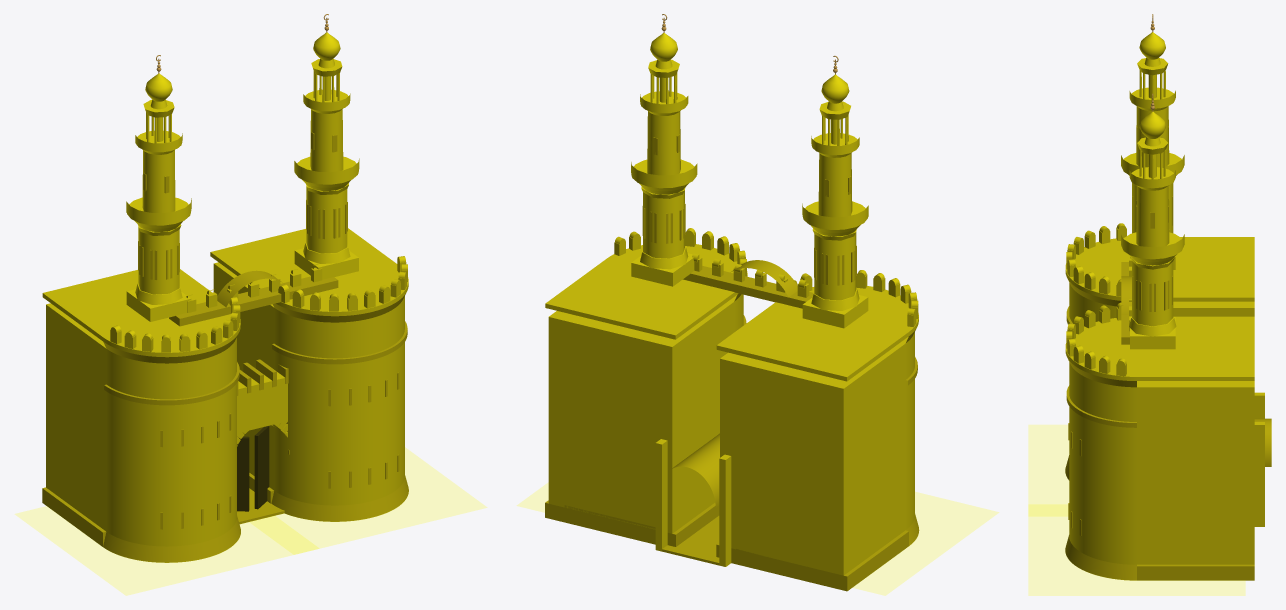
Rendered from RUWAQ_BAB_ZUWAYLA_MASTER.glb.
3 views of the same model, side by side, from view 1: azimuth 30°, elevation 25°; view 2: azimuth 150°, elevation 25°; view 3: azimuth 270°, elevation 25° (orthographic). The views are drawn at different scales.
Parts seen in each view (by area): view 1: left_tower_curved_wall_upper, right_tower_curved_wall_upper, left_tower_upper_structure, left_tower_contact_shadow, right_tower_upper_structure, right_tower_contact_shadow, left_tower_curved_wall_lower, right_tower_curved_wall_lower, left_minaret_tier1_octagonal_shaft, right_minaret_tier1_octagonal_shaft, left_tower_outer_flank_lower, right_tower_terrace (+23 smaller); view 2: left_tower_upper_structure, right_tower_upper_structure, left_tower_rear_wall_lower, right_tower_rear_wall_lower, left_tower_contact_shadow, left_minaret_tier1_octagonal_shaft, right_minaret_tier1_octagonal_shaft, left_tower_outer_flank_lower, left_tower_lower_structure, right_tower_lower_structure, gate_passage_vault, right_minaret_tier3_chevron_shaft (+17 smaller); view 3: right_tower_upper_structure, right_tower_curved_wall_upper, right_tower_contact_shadow, left_tower_upper_structure, right_tower_outer_flank_lower, right_minaret_tier1_octagonal_shaft, left_tower_contact_shadow, right_tower_curved_wall_lower, right_tower_terrace, left_tower_terrace, right_tower_lower_structure, right_minaret_tier3_chevron_shaft (+18 smaller).
Boxes of the visible parts, box(x1,y1,x2,y2) form: left_tower_curved_wall_upper: box(106, 337, 236, 499); right_tower_curved_wall_upper: box(274, 296, 404, 459); left_tower_upper_structure: box(42, 269, 211, 484); left_tower_contact_shadow: box(15, 506, 318, 595); right_tower_upper_structure: box(210, 228, 397, 443); right_tower_contact_shadow: box(250, 448, 486, 554); left_tower_curved_wall_lower: box(106, 473, 236, 546); right_tower_curved_wall_lower: box(274, 431, 404, 505); left_minaret_tier1_octagonal_shaft: box(126, 224, 191, 321); right_minaret_tier1_octagonal_shaft: box(294, 183, 358, 279); left_tower_outer_flank_lower: box(46, 441, 106, 531); right_tower_terrace: box(276, 265, 408, 316); left_tower_upper_structure: box(716, 302, 908, 528); right_tower_upper_structure: box(545, 258, 737, 486); left_tower_rear_wall_lower: box(731, 501, 852, 574); right_tower_rear_wall_lower: box(549, 457, 681, 533); left_tower_contact_shadow: box(853, 492, 998, 595); left_minaret_tier1_octagonal_shaft: box(802, 228, 868, 328); right_minaret_tier1_octagonal_shaft: box(631, 187, 694, 286); left_tower_outer_flank_lower: box(827, 483, 905, 575); left_tower_lower_structure: box(716, 530, 908, 591); right_tower_lower_structure: box(545, 500, 719, 546); gate_passage_vault: box(655, 433, 731, 507); right_minaret_tier3_chevron_shaft: box(647, 111, 680, 175); right_tower_upper_structure: box(1137, 316, 1254, 519); right_tower_curved_wall_upper: box(1069, 362, 1136, 519); right_tower_contact_shadow: box(1029, 505, 1244, 595); left_tower_upper_structure: box(1173, 237, 1254, 316); right_tower_outer_flank_lower: box(1137, 520, 1254, 564); right_minaret_tier1_octagonal_shaft: box(1129, 257, 1176, 349); left_tower_contact_shadow: box(1029, 425, 1068, 515); right_tower_curved_wall_lower: box(1069, 494, 1136, 564); right_tower_terrace: box(1065, 318, 1136, 380); left_tower_terrace: box(1065, 238, 1129, 300); right_tower_lower_structure: box(1137, 564, 1254, 580); right_minaret_tier3_chevron_shaft: box(1136, 186, 1169, 247).
Size of the model in its own units: 31.04 by 38.6 by 18.62.
Materials: 8 (6 with a texture image).
